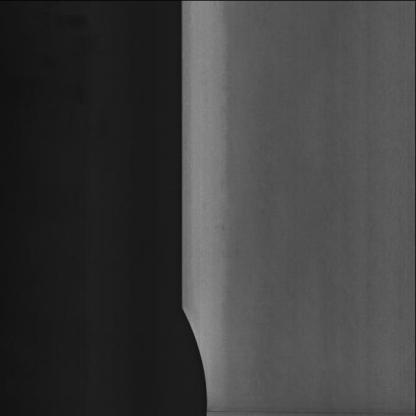crescent_gap: (176, 282, 218, 416)
